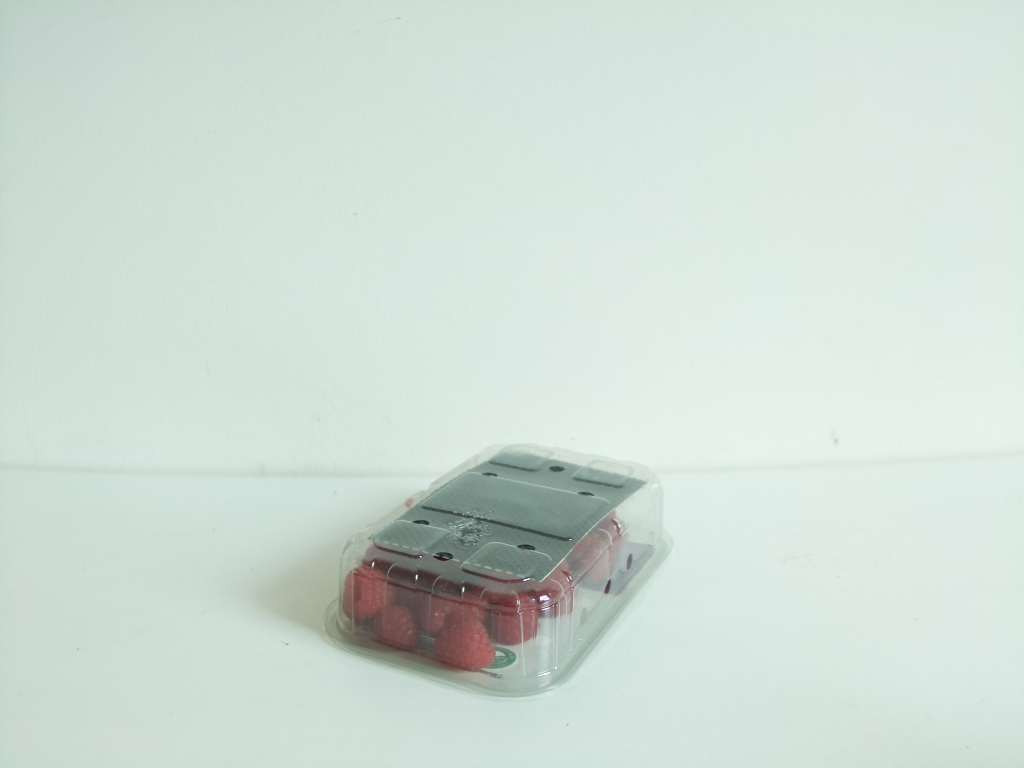soft-fruit: (324, 442, 675, 701)
